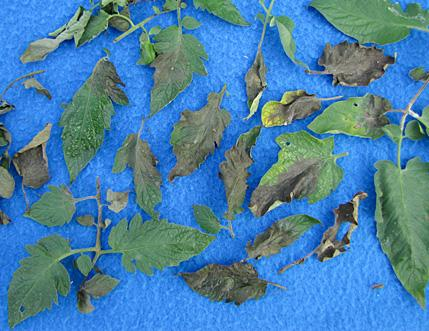Tomato leaf late blight: (367, 146, 429, 309), (250, 130, 349, 227), (57, 54, 129, 179), (106, 216, 231, 272), (145, 20, 211, 115), (167, 84, 233, 177), (213, 122, 268, 220), (118, 122, 169, 218), (242, 210, 331, 263), (310, 89, 396, 142), (185, 0, 251, 26)
